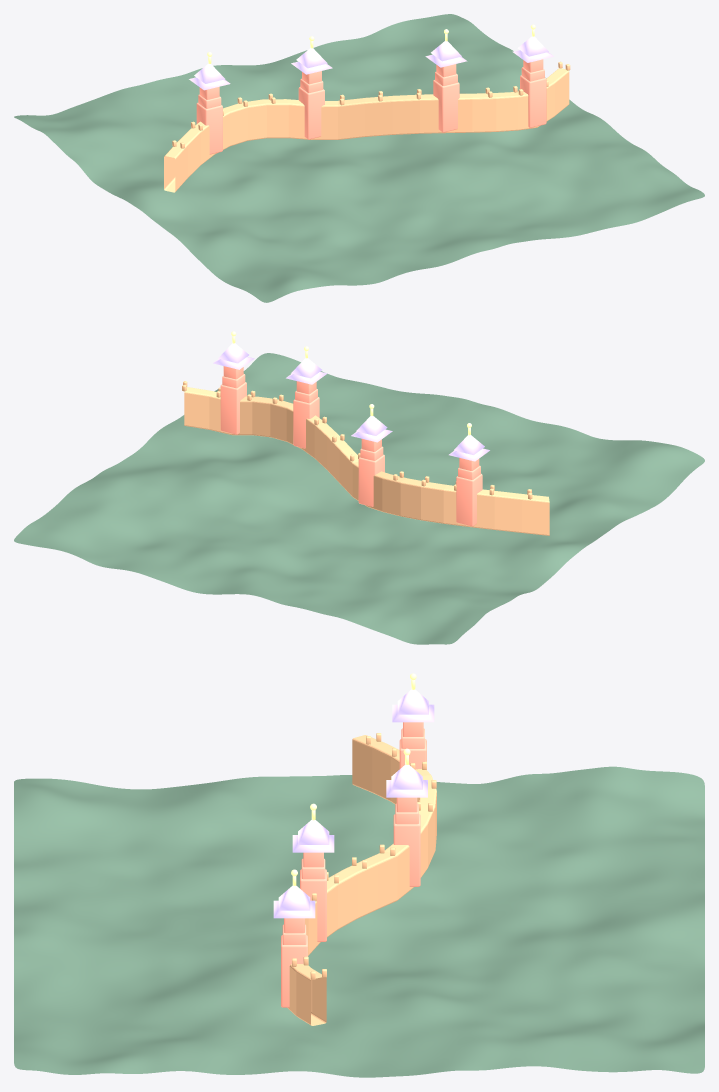
The model's file is greatwall.glb.
3 renders of one model, top to bottom at view 1: azimuth 30°, elevation 25°; view 2: azimuth 150°, elevation 25°; view 3: azimuth 270°, elevation 25°, orthographic. The views are drawn at different scales.
Parts seen in each view (by area): view 1: GW_terrain, GW_wall, GW_tower_lower_13, GW_tower_lower_17, GW_tower_lower_8, GW_tower_lower_3; view 2: GW_terrain, GW_wall, GW_tower_lower_3, GW_tower_lower_17, GW_tower_lower_8, GW_tower_lower_13; view 3: GW_terrain, GW_wall, GW_tower_lower_8, GW_tower_lower_13, GW_tower_lower_17, GW_tower_roof_u_17, GW_tower_roof_u_3, GW_tower_roof_u_8, GW_tower_roof_u_13.
Part boxes in pixels (bbox=[...]): GW_terrain: bbox=[14, 14, 704, 302]; GW_wall: bbox=[164, 68, 569, 192]; GW_tower_lower_13: bbox=[433, 80, 459, 132]; GW_tower_lower_17: bbox=[520, 75, 546, 127]; GW_tower_lower_8: bbox=[298, 87, 324, 139]; GW_tower_lower_3: bbox=[196, 102, 222, 154]; GW_terrain: bbox=[14, 353, 704, 644]; GW_wall: bbox=[184, 387, 549, 535]; GW_tower_lower_3: bbox=[456, 473, 482, 526]; GW_tower_lower_17: bbox=[220, 382, 246, 434]; GW_tower_lower_8: bbox=[358, 454, 384, 506]; GW_tower_lower_13: bbox=[293, 397, 319, 448]; GW_terrain: bbox=[14, 766, 704, 1077]; GW_wall: bbox=[287, 735, 436, 1025]; GW_tower_lower_8: bbox=[393, 814, 420, 886]; GW_tower_lower_13: bbox=[300, 869, 326, 941]; GW_tower_lower_17: bbox=[281, 935, 307, 1007]; GW_tower_roof_u_17: bbox=[278, 885, 310, 910]; GW_tower_roof_u_3: bbox=[397, 689, 428, 714]; GW_tower_roof_u_8: bbox=[391, 764, 422, 789]; GW_tower_roof_u_13: bbox=[298, 820, 329, 844].
Bounding box in the file's own units: 14 × 4.05 × 14.
